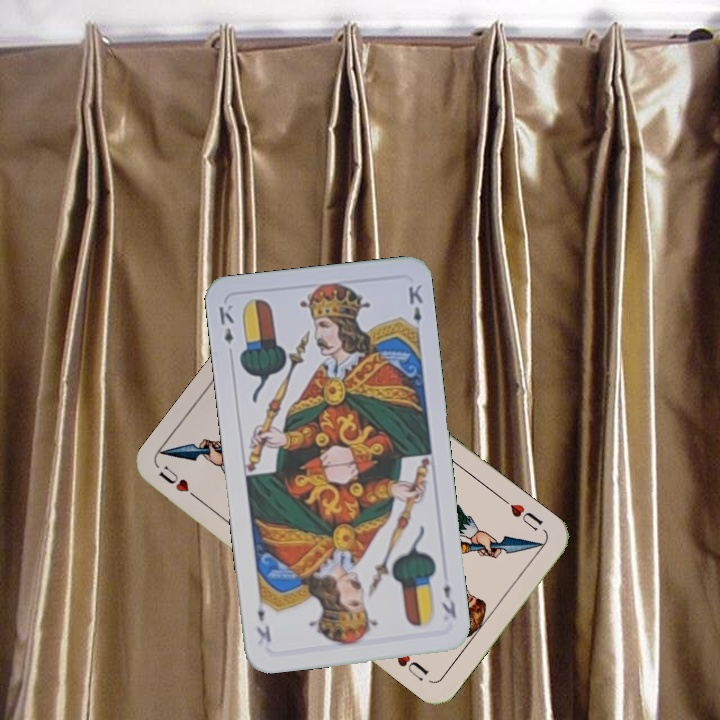EK: (214, 300, 236, 360), (437, 580, 459, 621)
HU: (154, 461, 205, 505), (497, 493, 546, 534)
